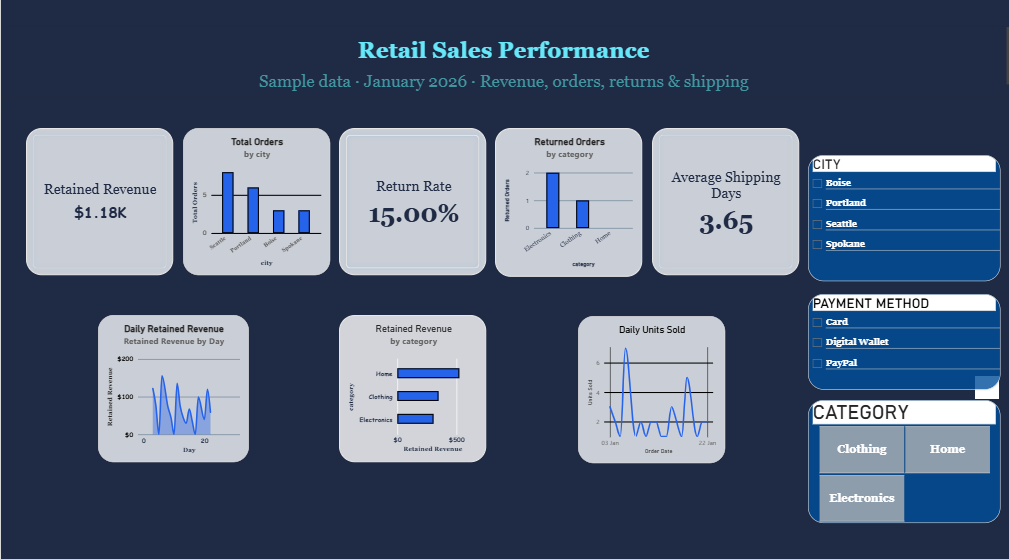

The page's visual inventory and layout, read from the dashboard file:
{"tool":"powerbi","page":{"name":"Page 3","canvas":[1920,1080],"ordinal":0},"visuals":[{"type":"cardVisual","fields":{"Data":["retail_sales_clean.Average Shipping Days"]},"box":[1238,260,280,280],"z":0},{"type":"cardVisual","fields":{"Data":["retail_sales_clean.Return Rate"]},"box":[642,260,280,280],"z":1000},{"type":"clusteredBarChart","fields":{"Category":["retail_sales_clean.category"],"Y":["retail_sales_clean.Retained Revenue"]},"box":[642,616,280,280],"z":2000},{"type":"lineChart","title":"Daily Retained Revenue","fields":{"Category":["retail_sales_clean.order_date.Variation.Date Hierarchy.Day"],"Y":["retail_sales_clean.Retained Revenue"]},"box":[184,616,287,280],"z":3000},{"type":"columnChart","fields":{"Category":["retail_sales_clean.city"],"Y":["retail_sales_clean.Total Orders"]},"box":[346,260,280,280],"z":4000},{"type":"columnChart","fields":{"Category":["retail_sales_clean.category"],"Y":["retail_sales_clean.Returned Orders"]},"box":[940,260,280,283.3],"z":5000},{"type":"textbox","box":[0,68,1920,132],"z":6000},{"type":"slicer","fields":{"Values":["retail_sales_clean.city"]},"box":[1534,312,366,240],"z":7000},{"type":"slicer","fields":{"Values":["retail_sales_clean.category"]},"box":[1534,778,366,234],"z":8000},{"type":"slicer","fields":{"Values":["retail_sales_clean.payment_method"]},"box":[1534,576,366,182],"z":9000},{"type":"cardVisual","fields":{"Data":["retail_sales_clean.Retained Revenue"]},"box":[48,260,280,280],"z":10000},{"type":"lineChart","title":"Daily Units Sold","fields":{"Category":["retail_sales_clean.order_date"],"Y":["retail_sales_clean.Units Sold"]},"box":[1098,618,280,280],"z":11000}]}

Visuals, with their boxes in screenshot pixels (x1, y1, x2, y2), scaled from the page's 1920x1080 canvas onto the 1009x559 screenshot:
cardVisual - retail_sales_clean.Average Shipping Days: [left=651, top=135, right=798, bottom=280]
cardVisual - retail_sales_clean.Return Rate: [left=337, top=135, right=485, bottom=280]
clusteredBarChart - retail_sales_clean.category x retail_sales_clean.Retained Revenue: [left=337, top=319, right=485, bottom=464]
"Daily Retained Revenue" lineChart: [left=97, top=319, right=248, bottom=464]
columnChart - retail_sales_clean.city x retail_sales_clean.Total Orders: [left=182, top=135, right=329, bottom=280]
columnChart - retail_sales_clean.category x retail_sales_clean.Returned Orders: [left=494, top=135, right=641, bottom=281]
textbox: [left=0, top=35, right=1008, bottom=104]
slicer - retail_sales_clean.city: [left=806, top=161, right=998, bottom=286]
slicer - retail_sales_clean.category: [left=806, top=403, right=998, bottom=524]
slicer - retail_sales_clean.payment_method: [left=806, top=298, right=998, bottom=392]
cardVisual - retail_sales_clean.Retained Revenue: [left=25, top=135, right=172, bottom=280]
"Daily Units Sold" lineChart: [left=577, top=320, right=724, bottom=465]
